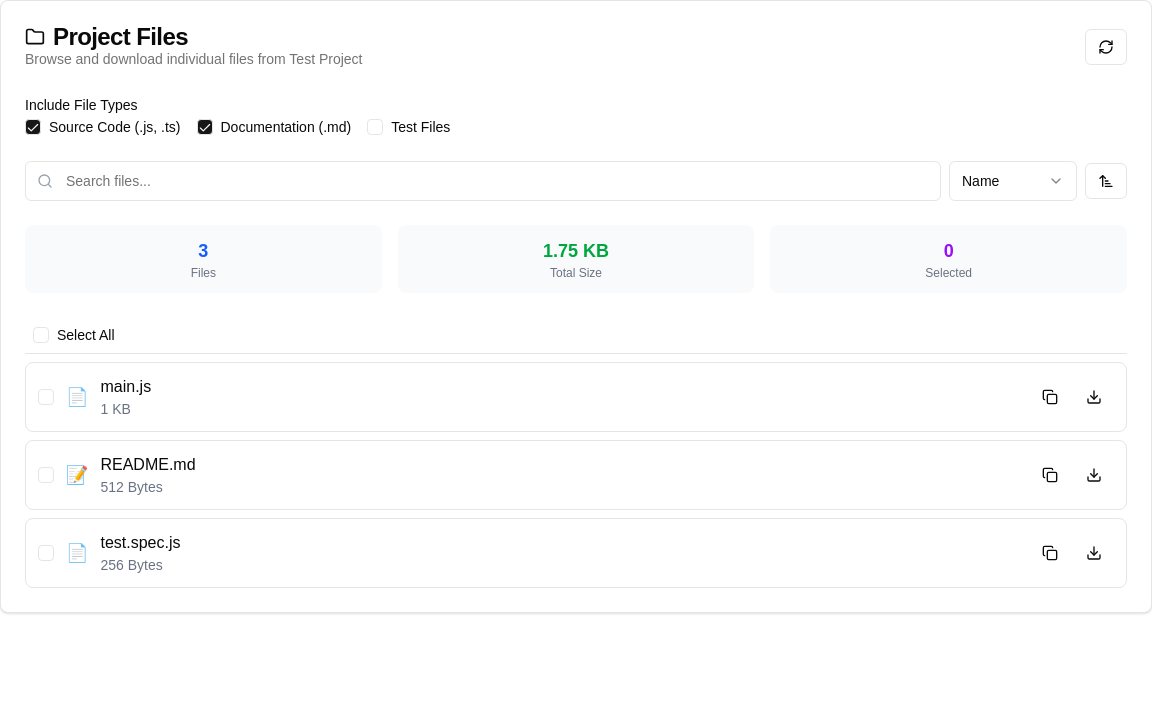
IndividualFileBrowser › handles file selection
The width and height of the screenshot is (1152, 720).
Check: the text "main.js" is shown, box [100,378,151,395]
Click the checkbox next to "main.js". click: click(46, 397)
box: [38,389,54,405]
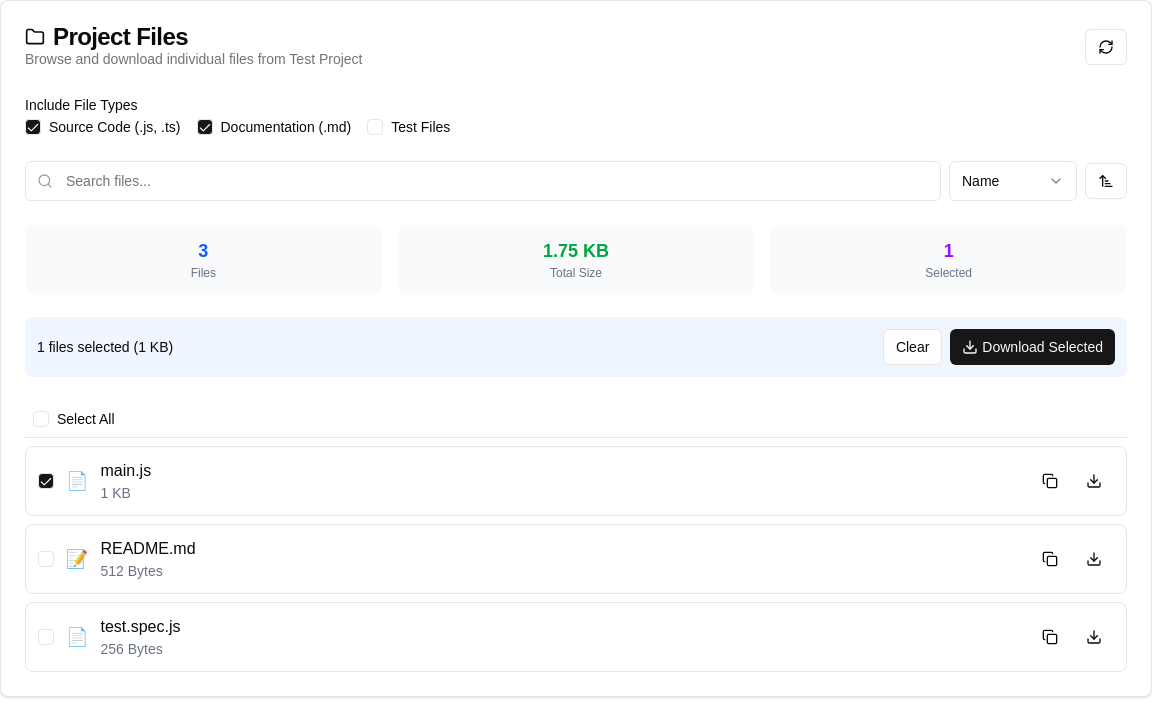
Check: the text "1 files selected (1 KB)" is shown, box [37,337,173,357]
